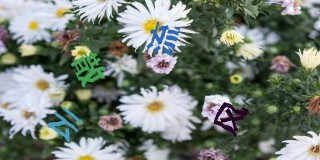云: (47, 107, 82, 143)
散: (69, 49, 108, 87)
流: (146, 18, 181, 56)
风: (213, 102, 249, 136)
